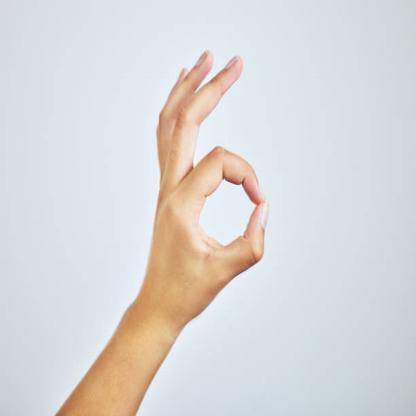ok: (144, 42, 272, 308)
